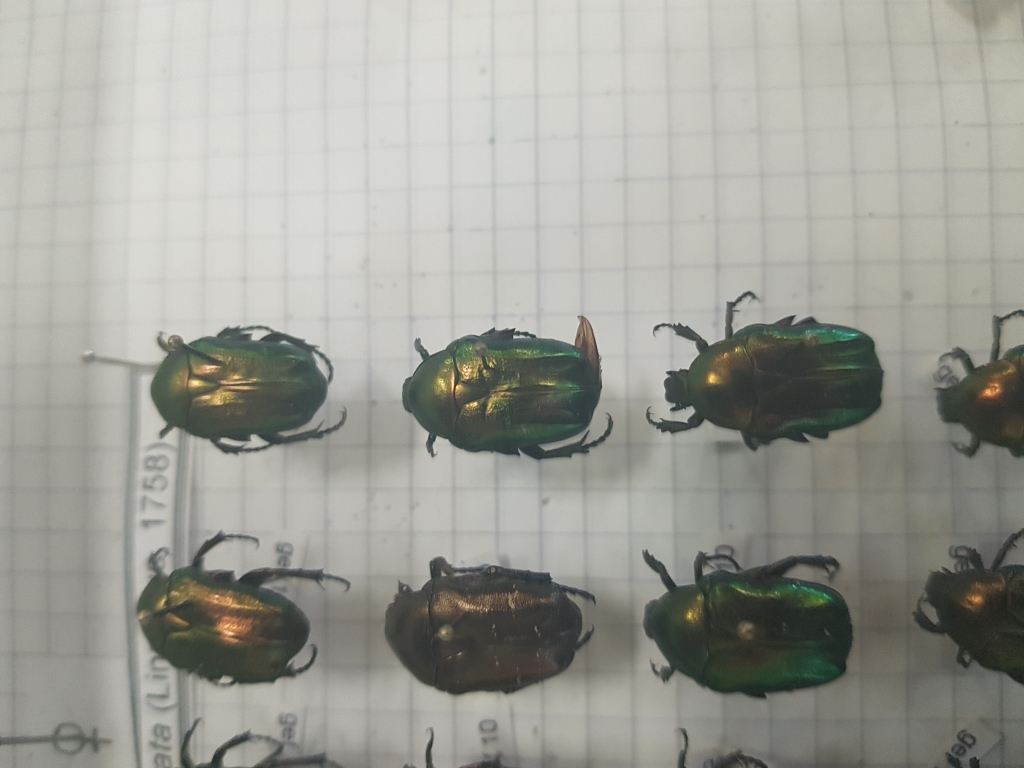Cetonia_aurata: (389, 311, 622, 479)
